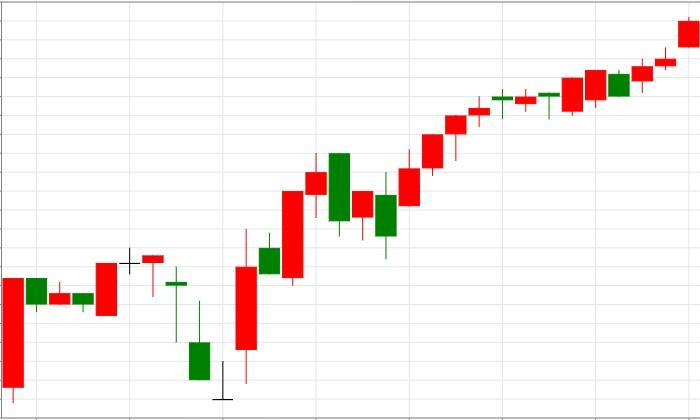bearish_engulfing_fall: (235, 153, 351, 384)
morning_star_rise: (120, 229, 257, 401)
